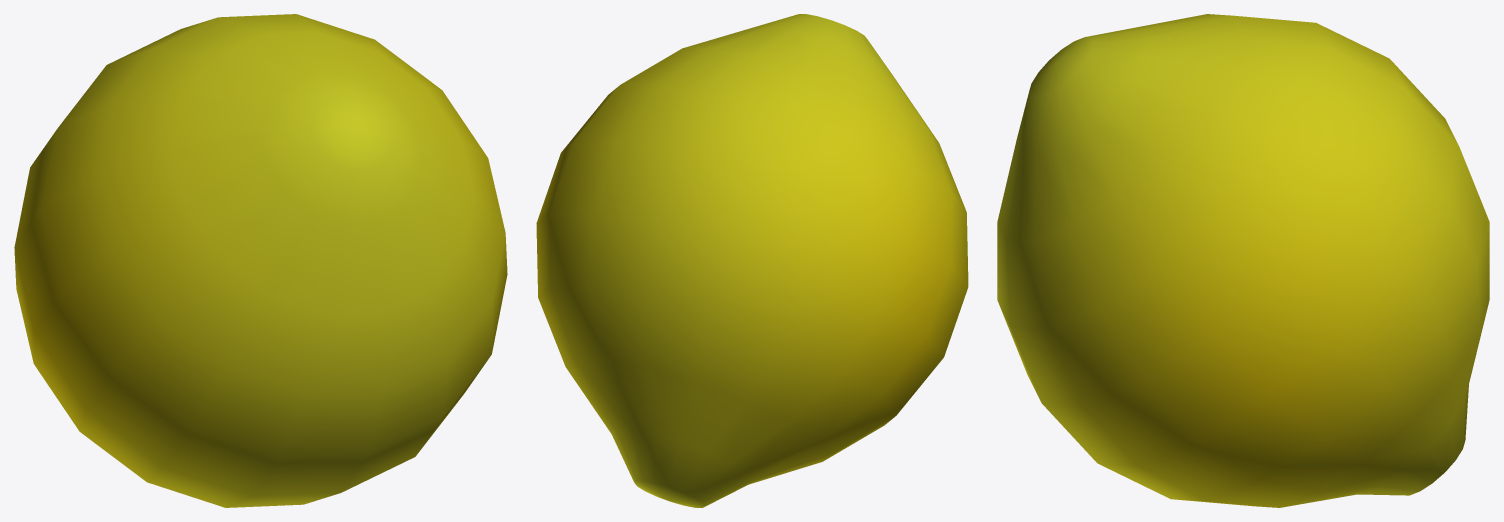
File: лдимон.fbx
The picture shows the model from 3 angles, left to right: view 1: azimuth 30°, elevation 25°; view 2: azimuth 150°, elevation 25°; view 3: azimuth 270°, elevation 25°; orthographic projection. The views are drawn at different scales.
Parts seen in each view (by area): view 1: Sphere.005; view 2: Sphere.005; view 3: Sphere.005.
Part boxes in pixels (x1=…): Sphere.005: x1=14, y1=14, x2=507, y2=507; Sphere.005: x1=536, y1=14, x2=968, y2=507; Sphere.005: x1=997, y1=14, x2=1489, y2=507.
Bounding box in the file's own units: 162 × 165 × 162.
